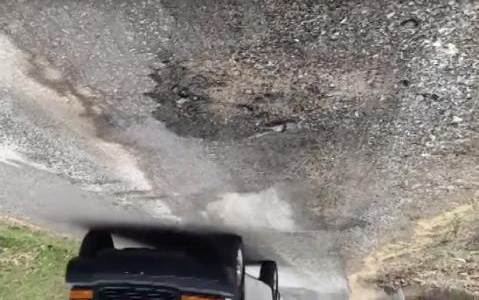pothole: (140, 48, 310, 143)
